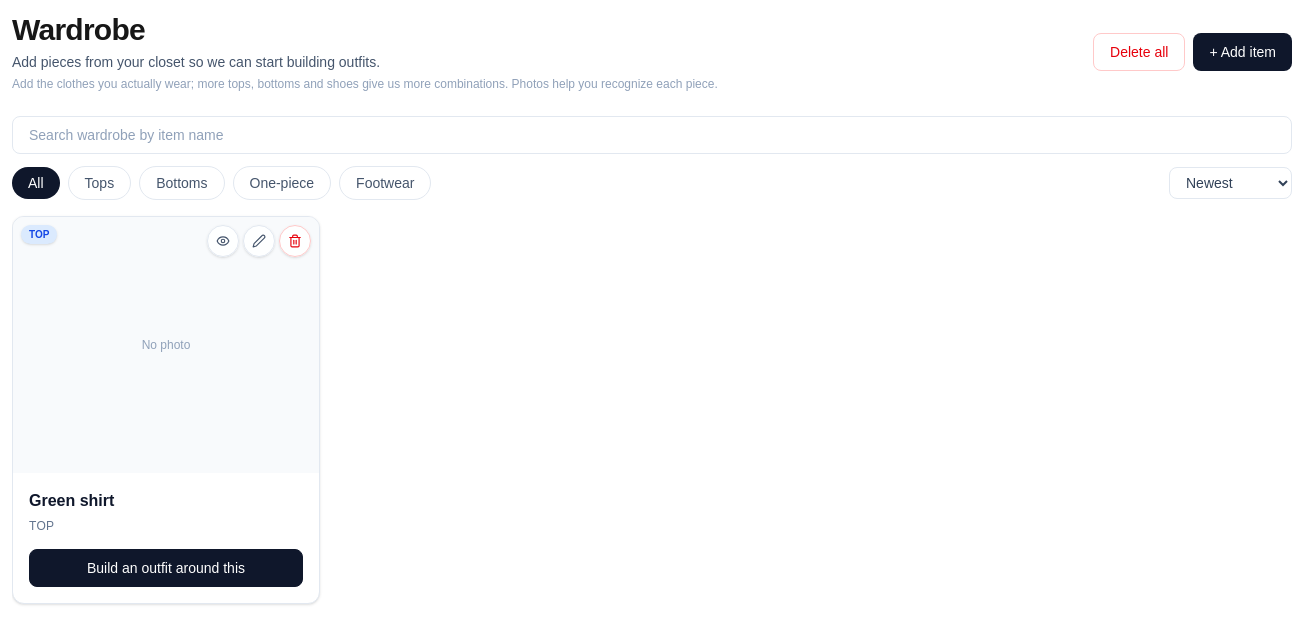
Test case: reports successful deletion with an unknown current closet if its reload fails
expect the heading "Green shirt" is shown: met, box [29, 492, 114, 509]
Click the button "Delete all" at (1139, 52), box [1093, 33, 1186, 71]
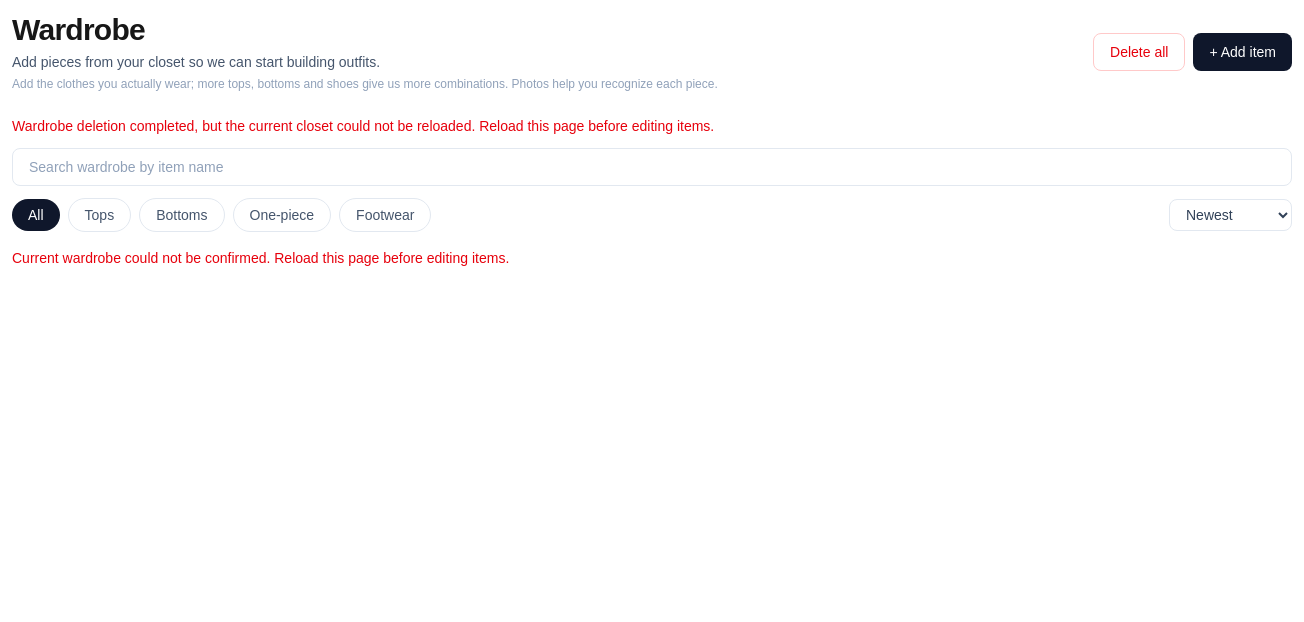
expect the text "Wardrobe deletion completed, but the current closet could not be reloaded" is shown: met, box [12, 118, 714, 134]
expect the heading "Green shirt" is gone: met
expect the text "Current wardrobe could not be confirmed" is shown: met, box [12, 250, 509, 266]
